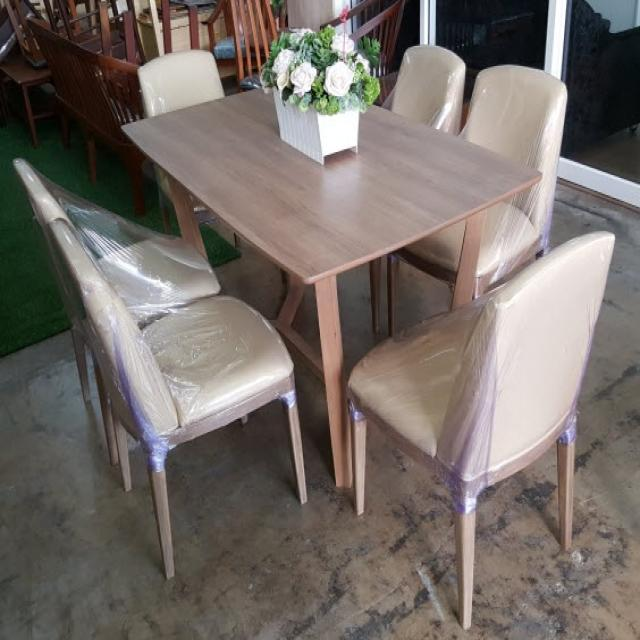table: (113, 51, 548, 284)
